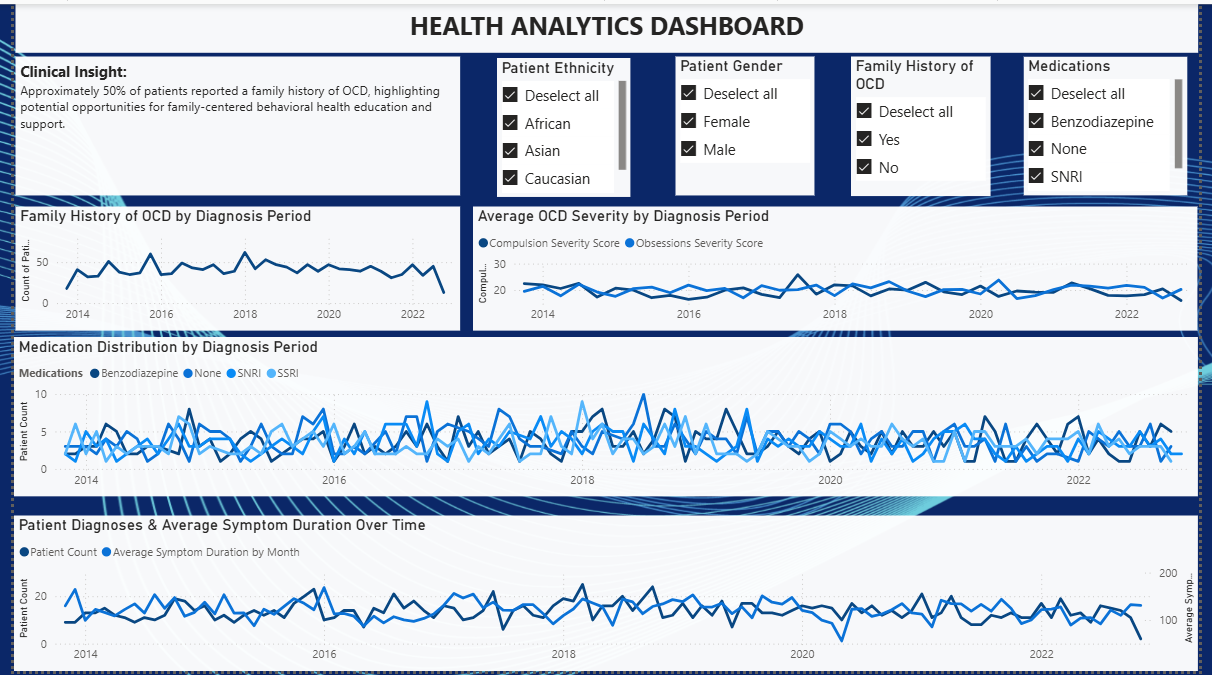

This screenshot's page, from the dashboard's own definition file:
{"tool":"powerbi","page":{"name":"Diagnosis & Symptom Patterns","canvas":[1280,720],"ordinal":2},"visuals":[{"type":"textbox","box":[2,0,1276.5,52.9],"z":0},{"type":"lineChart","title":"Medication Distribution by Diagnosis Period","fields":{"Category":["ocd_patient_dataset.OCD_Diagnosis_Date.Variation.Date Hierarchy.Year","ocd_patient_dataset.OCD_Diagnosis_Date.Variation.Date Hierarchy.Month"],"Y":["CountNonNull(ocd_patient_dataset.Patient_ID)"],"Series":["ocd_patient_dataset.Medications"]},"box":[0,360,1278,172],"z":1000},{"type":"listSlicer","fields":{"Values":["ocd_patient_dataset.Ethnicity"]},"box":[522,58,144,150],"z":2000},{"type":"listSlicer","fields":{"Values":["ocd_patient_dataset.Medications"]},"box":[1090,56,176.7,150],"z":3000},{"type":"listSlicer","title":"Family History of OCD","fields":{"Values":["ocd_patient_dataset.Family History Label"]},"box":[903.9,57,151,151],"z":4000},{"type":"listSlicer","fields":{"Values":["ocd_patient_dataset.Gender"]},"box":[714,56,150,150],"z":5000},{"type":"textbox","box":[2,56,480,150],"z":6000},{"type":"lineChart","title":"Patient Diagnoses & Average Symptom Duration Over Time","fields":{"Y":["CountNonNull(ocd_patient_dataset.Duration_of_Symptoms_months)"],"Category":["ocd_patient_dataset.OCD_Diagnosis_Date.Variation.Date Hierarchy.Year","ocd_patient_dataset.OCD_Diagnosis_Date.Variation.Date Hierarchy.Month"],"Y2":["Avg(ocd_patient_dataset.Duration_of_Symptoms_months)1"]},"box":[0,552,1278,168],"z":7000},{"type":"lineChart","title":"Family History of OCD by Diagnosis Period","fields":{"Category":["ocd_patient_dataset.OCD_Diagnosis_Date.Variation.Date Hierarchy.Year","ocd_patient_dataset.OCD_Diagnosis_Date.Variation.Date Hierarchy.Quarter"],"Y":["CountNonNull(ocd_patient_dataset.Family_History_of_OCD)"]},"box":[2,218,480,134],"z":8000},{"type":"lineChart","title":"Average OCD Severity by Diagnosis Period","fields":{"Category":["ocd_patient_dataset.OCD_Diagnosis_Date.Variation.Date Hierarchy.Year","ocd_patient_dataset.OCD_Diagnosis_Date.Variation.Date Hierarchy.Quarter"],"Y":["Avg(ocd_patient_dataset.Y_BOCS_Score_Compulsions)","Avg(ocd_patient_dataset.Y_BOCS_Score_Obsessions)"]},"box":[496,218,782,134],"z":9000}]}

Visuals, with their boxes in screenshot pixels (x1, y1, x2, y2), scaled from the page's 1280x720 canvas onto the 1212x675 screenshot:
textbox: bbox=(2, 0, 1211, 50)
"Medication Distribution by Diagnosis Period" lineChart: bbox=(0, 338, 1210, 499)
listSlicer - ocd_patient_dataset.Ethnicity: bbox=(494, 54, 631, 195)
listSlicer - ocd_patient_dataset.Medications: bbox=(1032, 52, 1199, 193)
"Family History of OCD" listSlicer: bbox=(856, 53, 999, 195)
listSlicer - ocd_patient_dataset.Gender: bbox=(676, 52, 818, 193)
textbox: bbox=(2, 52, 456, 193)
"Patient Diagnoses & Average Symptom Duration Over Time" lineChart: bbox=(0, 518, 1210, 674)
"Family History of OCD by Diagnosis Period" lineChart: bbox=(2, 204, 456, 330)
"Average OCD Severity by Diagnosis Period" lineChart: bbox=(470, 204, 1210, 330)
